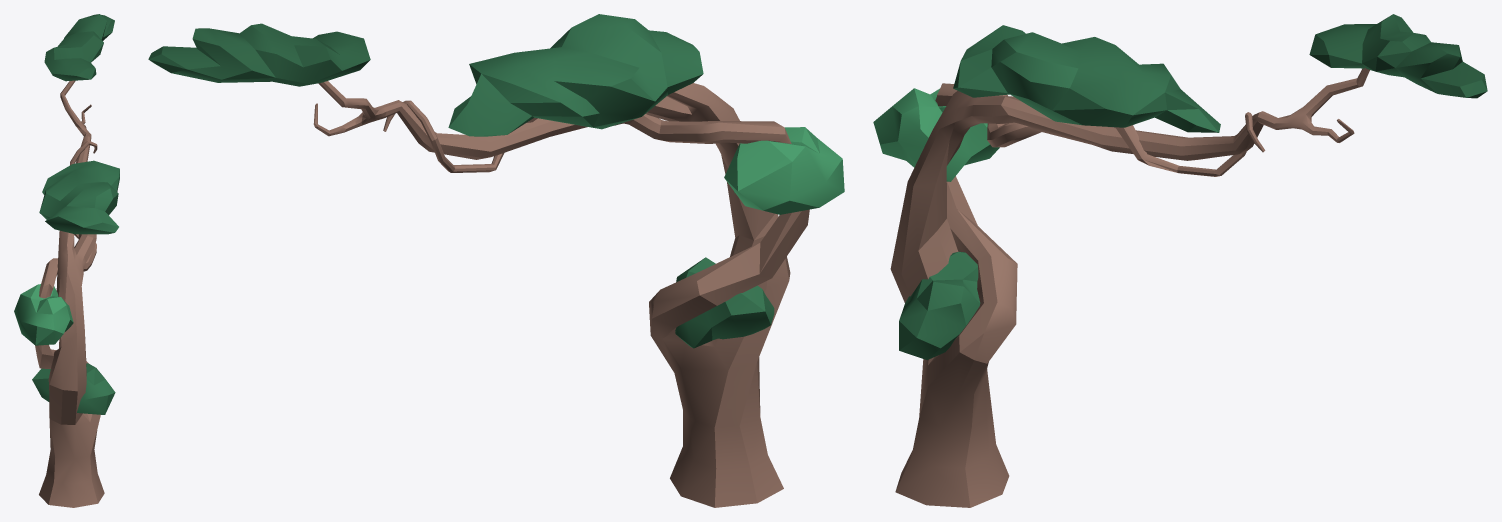
File: tree_13a.glb
3 renders of one model, left to right at view 1: azimuth 30°, elevation 25°; view 2: azimuth 150°, elevation 25°; view 3: azimuth 270°, elevation 25°, orthographic. The views are drawn at different scales.
Visible parts, largest first — view 1: EA_Tr_Nature_Tree_13a_LOD0; view 2: EA_Tr_Nature_Tree_13a_LOD0; view 3: EA_Tr_Nature_Tree_13a_LOD0.
Part boxes in pixels (box(x1,y1,x2,y2)): EA_Tr_Nature_Tree_13a_LOD0: box(14, 14, 119, 507); EA_Tr_Nature_Tree_13a_LOD0: box(148, 14, 844, 507); EA_Tr_Nature_Tree_13a_LOD0: box(873, 14, 1487, 507).
Size of the model in its own units: 6.26 by 8.07 by 7.81.
Materials: 1 (1 with a texture image).
